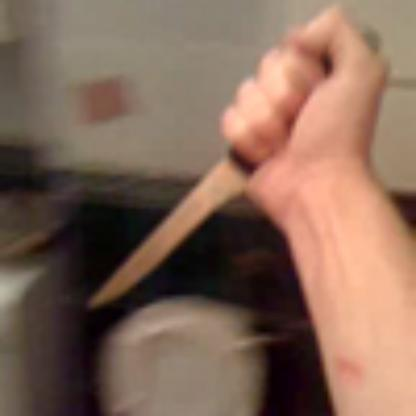knives: (83, 0, 365, 324)
